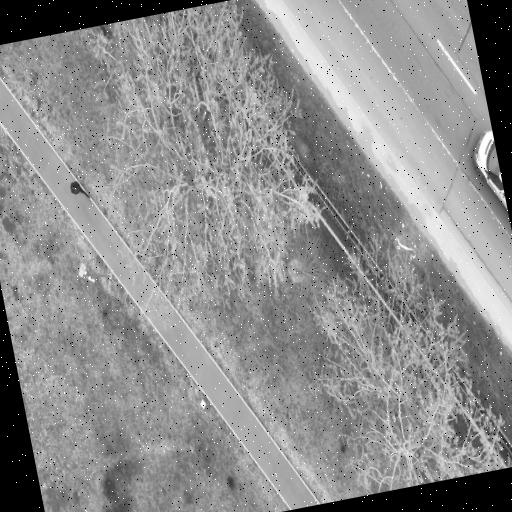car: (473, 132, 507, 210)
person: (70, 181, 88, 197)
